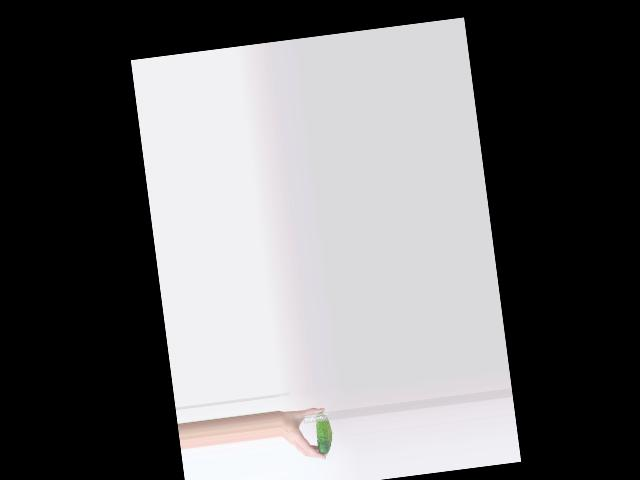cucumber: (313, 411, 335, 455)
